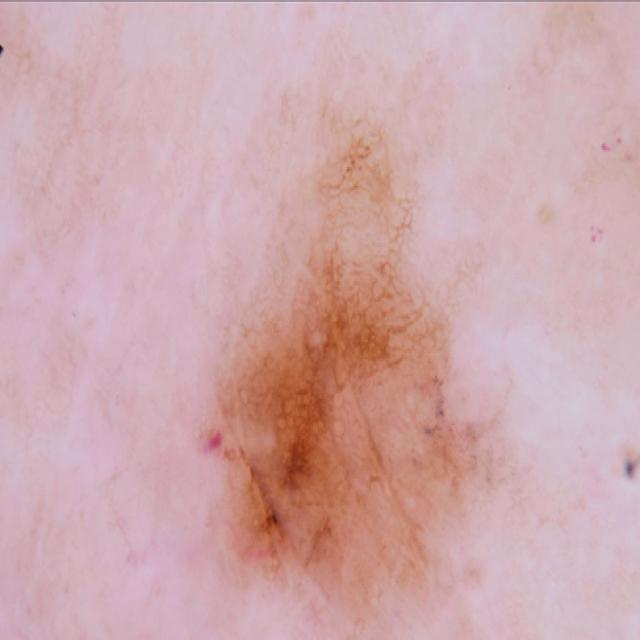Keratosis: (166, 149, 523, 631)
